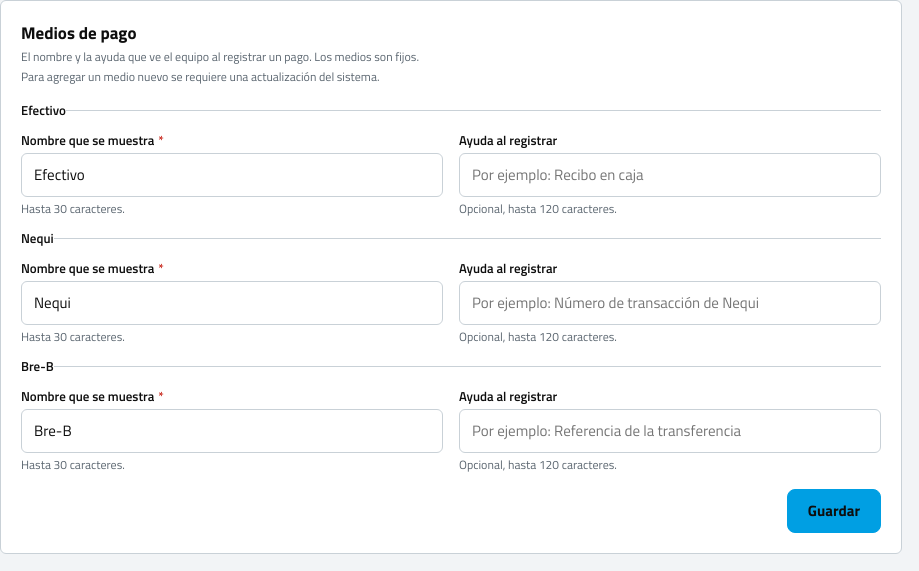
Test: PaymentMethodsForm › guardar relee los medios con etiqueta de la venta y el panel de pagos (['payment-methods'])
Check: the element "Efectivo" is shown, box x1=21 y1=101 x2=881 y2=217
Type "Recibo en caja" into the 1st field labelled "Ayuda al registrar". click: [670, 175]
box: x1=459 y1=153 x2=881 y2=197
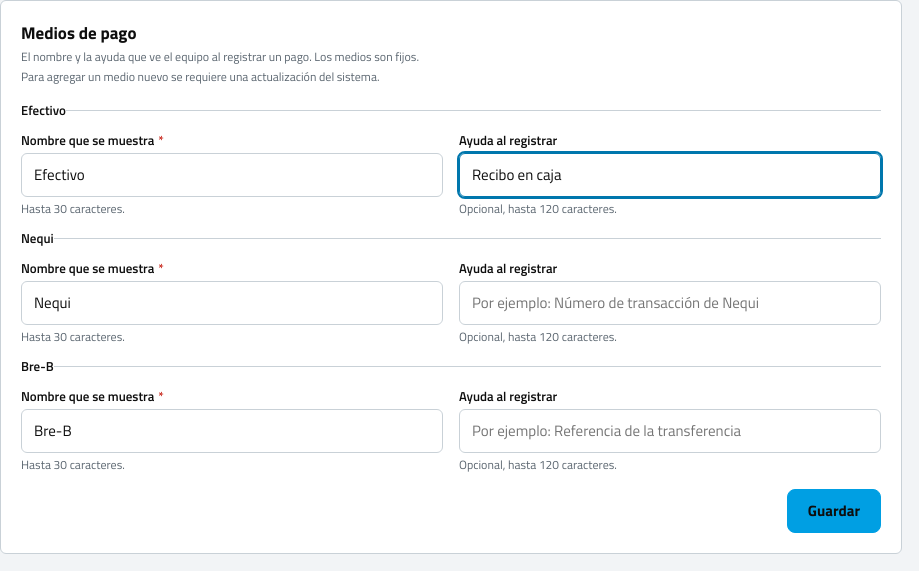
Click the button "Guardar". click: [834, 511]
box: x1=787 y1=489 x2=881 y2=533
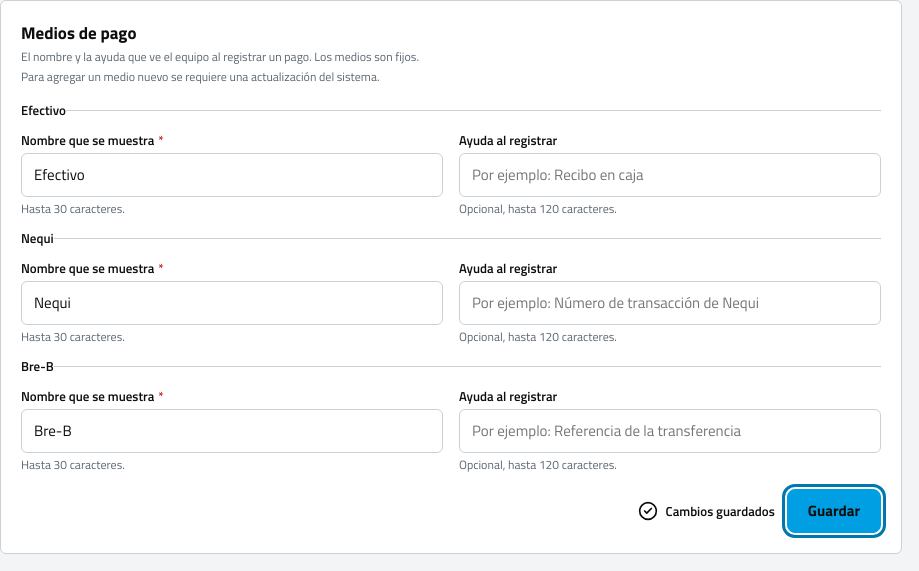
Check: the text "Cambios guardados" is shown, box x1=638 y1=501 x2=775 y2=521
